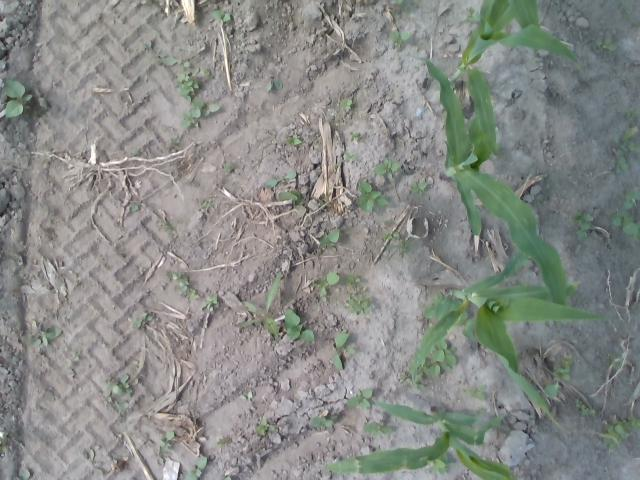Maize: (404, 47, 570, 326), (406, 252, 606, 434), (446, 0, 585, 161), (322, 397, 516, 480)
Weeds: (236, 272, 280, 338), (400, 340, 458, 390), (608, 190, 640, 243), (601, 415, 640, 450), (542, 356, 573, 399), (343, 274, 374, 316), (2, 78, 32, 118), (180, 99, 220, 128), (356, 180, 390, 214), (284, 309, 314, 344), (332, 330, 356, 372), (26, 320, 62, 347), (174, 68, 201, 102), (142, 40, 176, 66), (170, 270, 199, 300), (276, 189, 306, 218), (314, 272, 340, 304), (381, 230, 412, 256), (614, 126, 640, 154), (426, 450, 454, 475), (105, 373, 133, 397), (570, 209, 594, 237), (372, 155, 401, 178), (422, 291, 444, 320), (81, 448, 103, 476), (455, 311, 476, 340), (184, 457, 208, 480), (266, 170, 296, 188), (346, 388, 372, 408), (388, 28, 411, 50), (464, 382, 488, 402), (364, 420, 392, 436), (318, 229, 339, 248), (310, 414, 338, 428), (108, 398, 128, 417), (254, 418, 275, 436), (132, 312, 154, 329), (574, 398, 596, 414), (463, 6, 482, 24), (159, 432, 174, 454), (596, 37, 618, 51), (411, 180, 428, 198), (264, 77, 284, 92), (605, 353, 622, 369), (614, 156, 629, 173), (212, 10, 232, 22), (202, 296, 218, 310), (35, 87, 46, 107), (64, 355, 79, 368), (286, 134, 302, 146), (178, 57, 193, 69), (348, 131, 364, 142), (342, 150, 356, 162), (16, 468, 30, 480), (0, 432, 8, 452), (200, 198, 214, 208), (170, 138, 180, 152), (340, 99, 352, 110), (240, 390, 253, 400), (626, 110, 640, 118), (223, 163, 235, 172), (130, 204, 140, 213), (163, 222, 174, 230), (622, 12, 630, 22), (476, 407, 484, 415), (203, 68, 211, 76), (218, 437, 225, 446), (132, 148, 140, 155), (394, 0, 404, 5), (224, 475, 232, 480), (141, 0, 147, 5)
